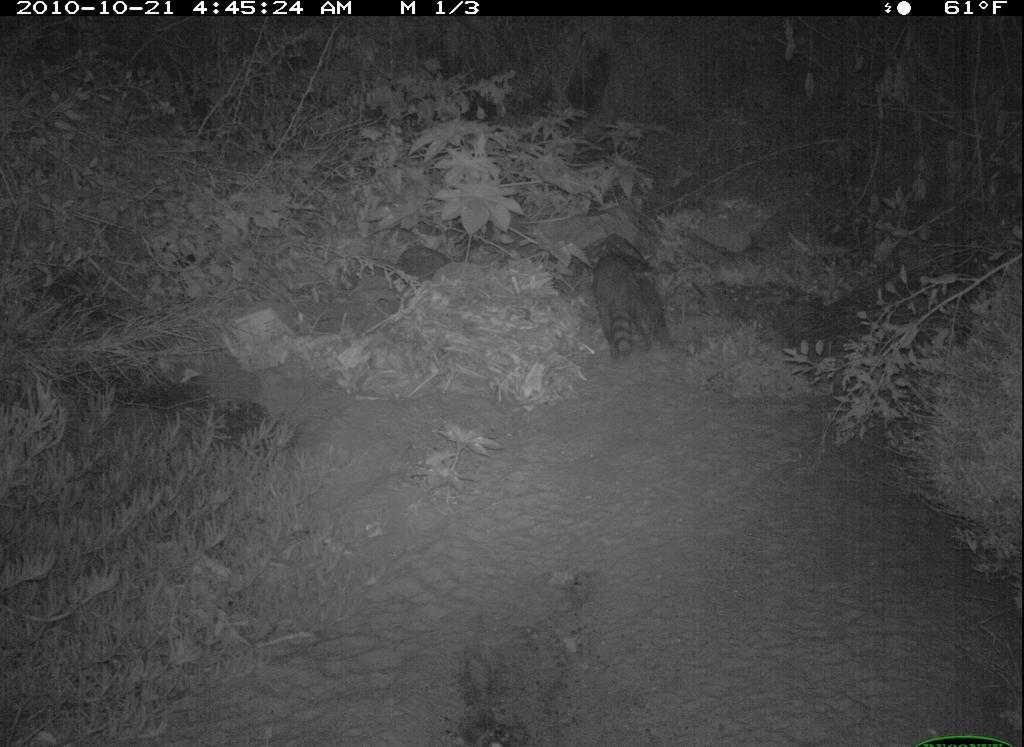raccoon: (587, 241, 687, 365)
